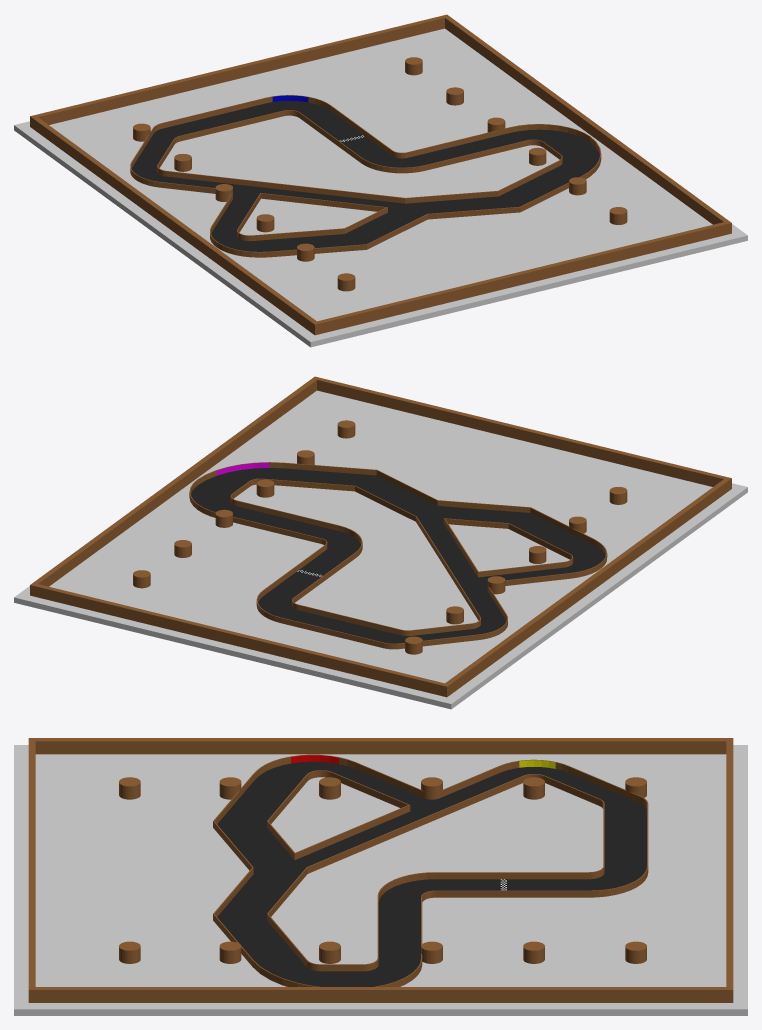
File: walker_racecourse.dae
The picture shows the model from 3 angles, top to bottom: view 1: azimuth 30°, elevation 25°; view 2: azimuth 150°, elevation 25°; view 3: azimuth 270°, elevation 25°; orthographic projection. The views are drawn at different scales.
Parts seen in each view (by area): view 1: walker_track; view 2: walker_track; view 3: walker_track.
Part boxes in pixels (<box>): walker_track: <box>14,14,747,347</box>; walker_track: <box>14,376,747,709</box>; walker_track: <box>14,738,747,1015</box>.
Bounding box in the file's own units: 30.81 × 36.18 × 1.07.
